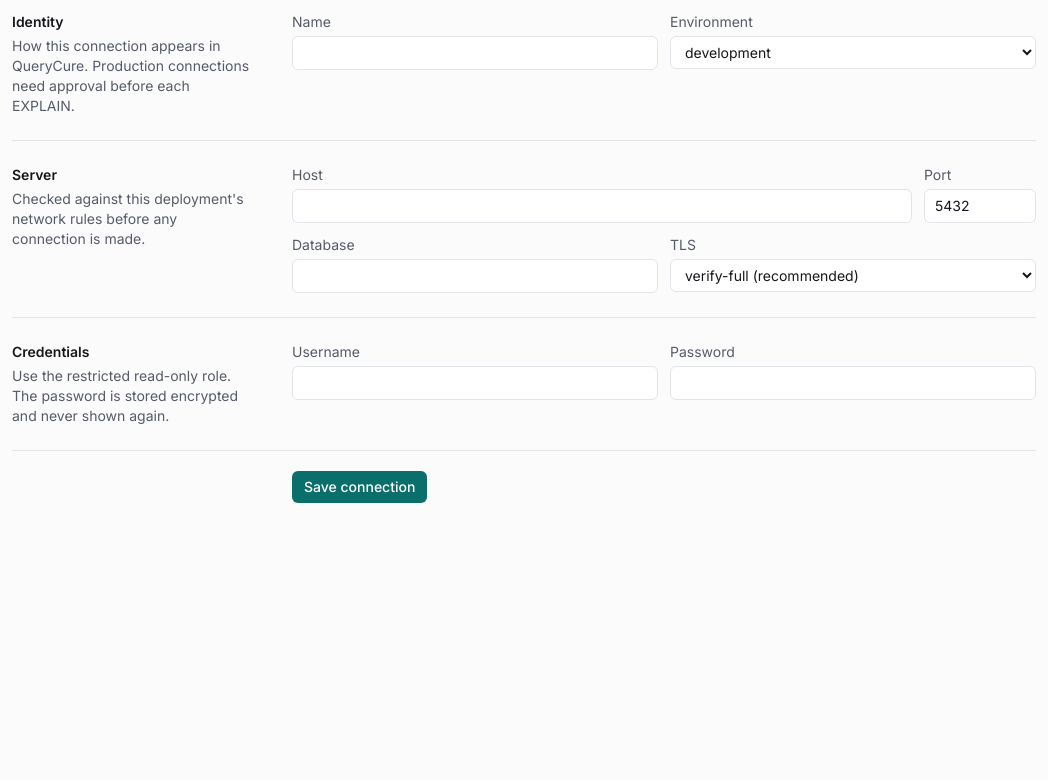
Test: ConnectionForm › shows the backend's message and detail, not a generic HTTP error
Type "local orders" into the field labelled "Name" at {"x": 475, "y": 53}, box [292,36,658,70]
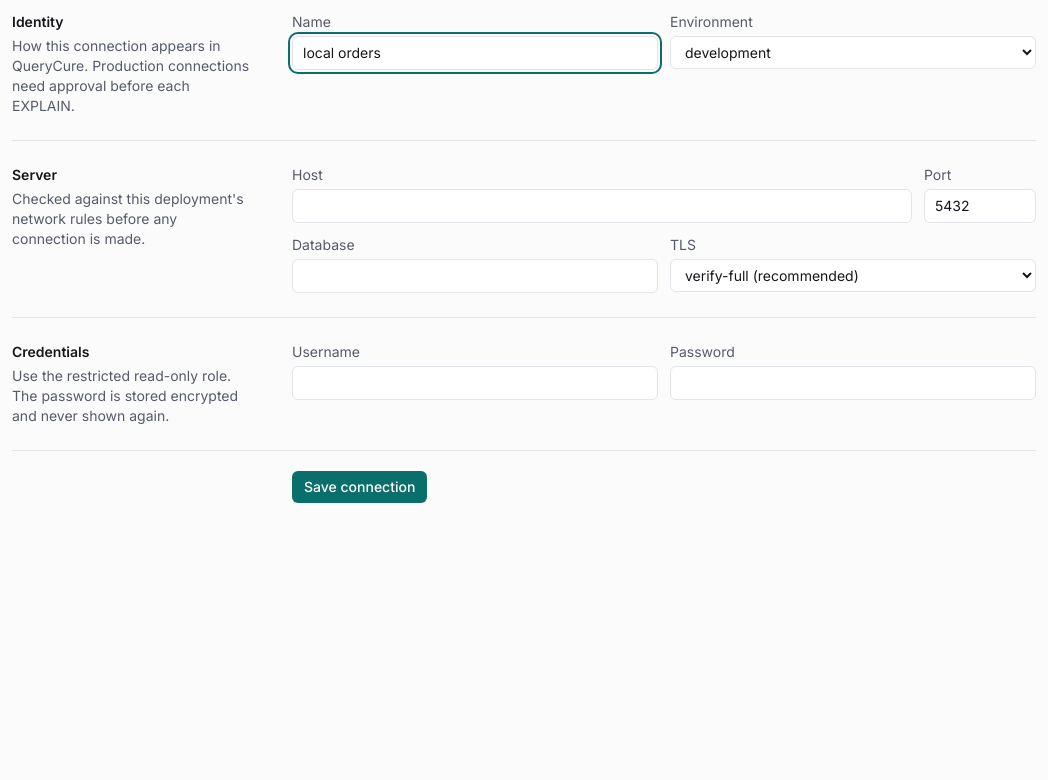
Type "127.0.0.1" into the field labelled "Host" at {"x": 602, "y": 206}, box [292,189,912,223]
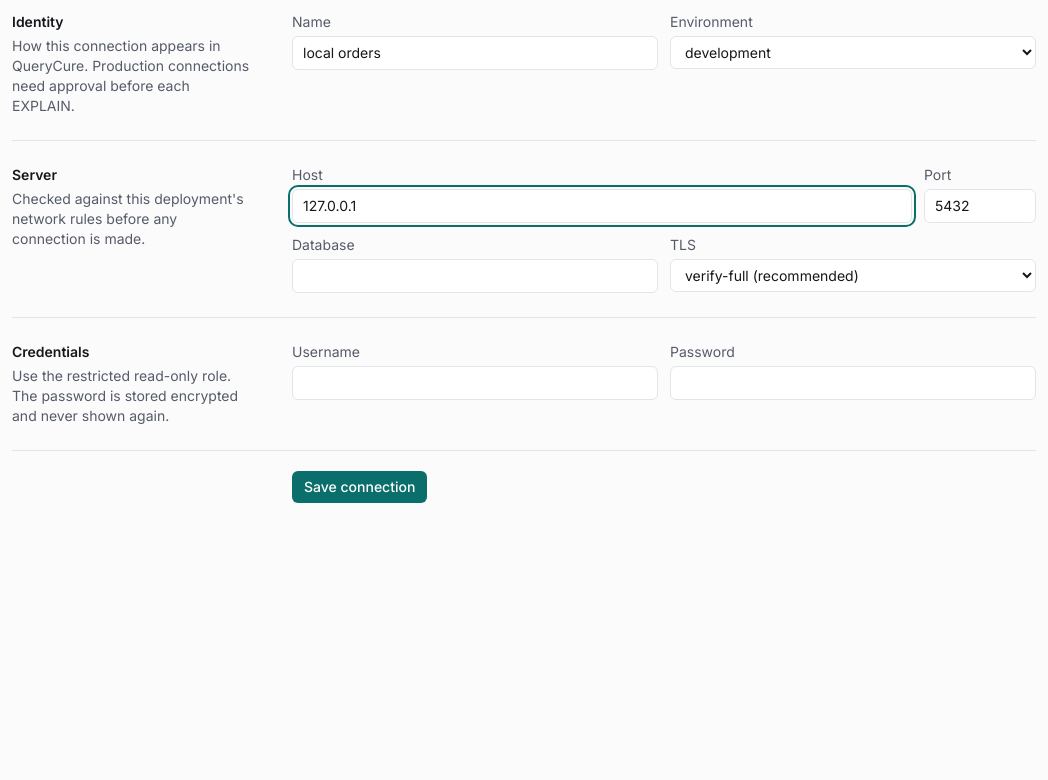
Type "app" into the field labelled "Database" at {"x": 475, "y": 276}, box [292,259,658,293]
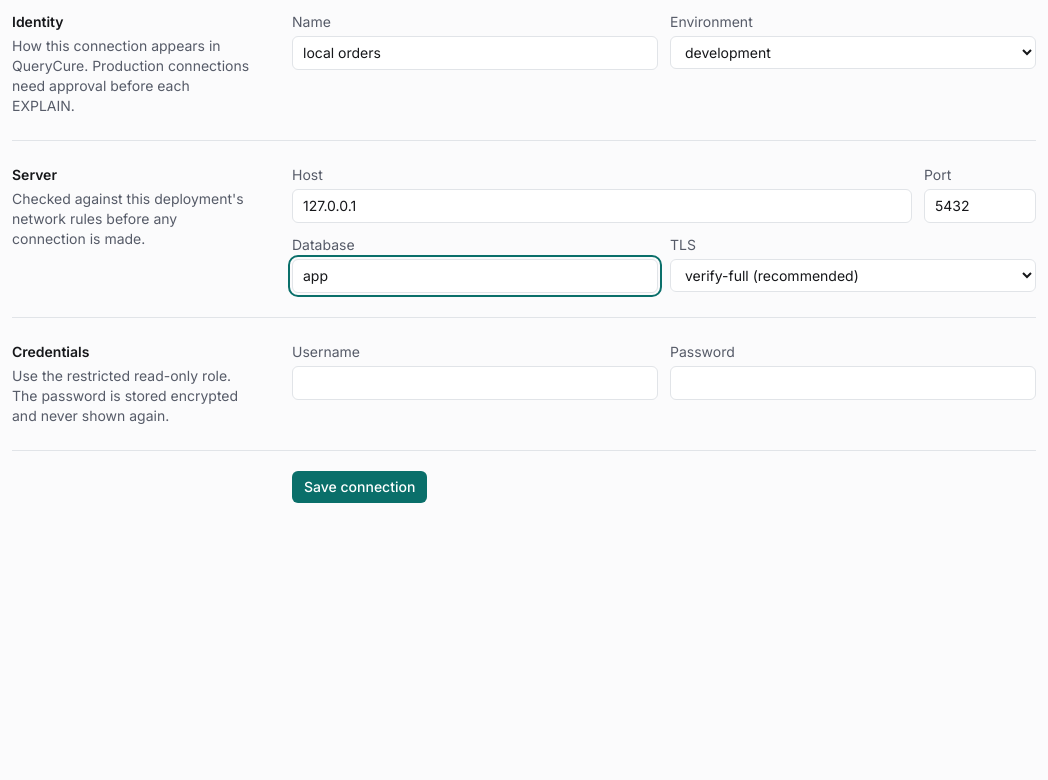
Type "inspector" into the field labelled "Username" at {"x": 475, "y": 383}, box [292,366,658,400]
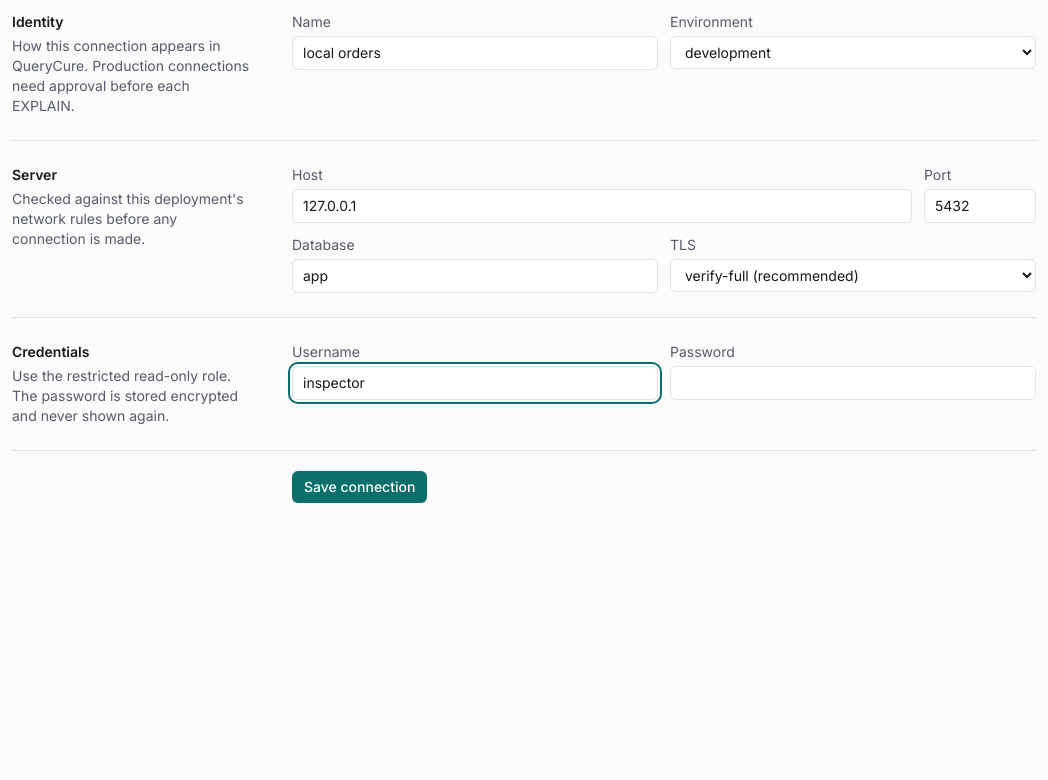
Type "s3cret" into the password field labelled "Password" at {"x": 853, "y": 383}, box [670,366,1036,400]
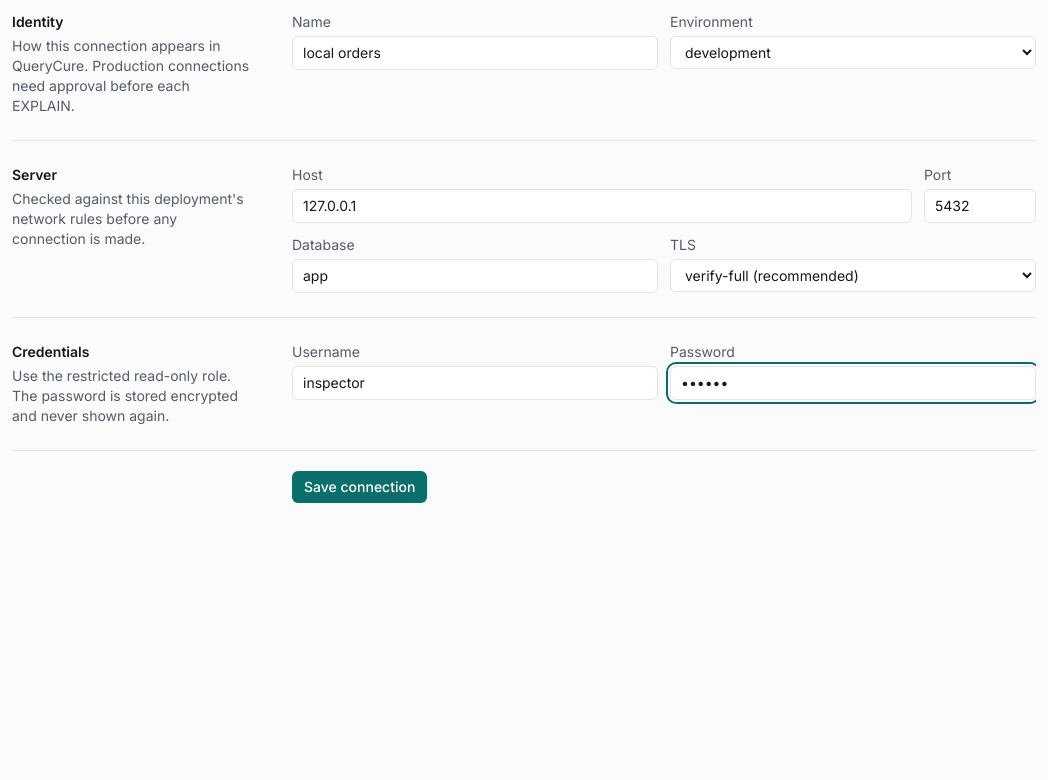
Click the button "Save connection" at {"x": 360, "y": 487}, box [292,471,427,503]
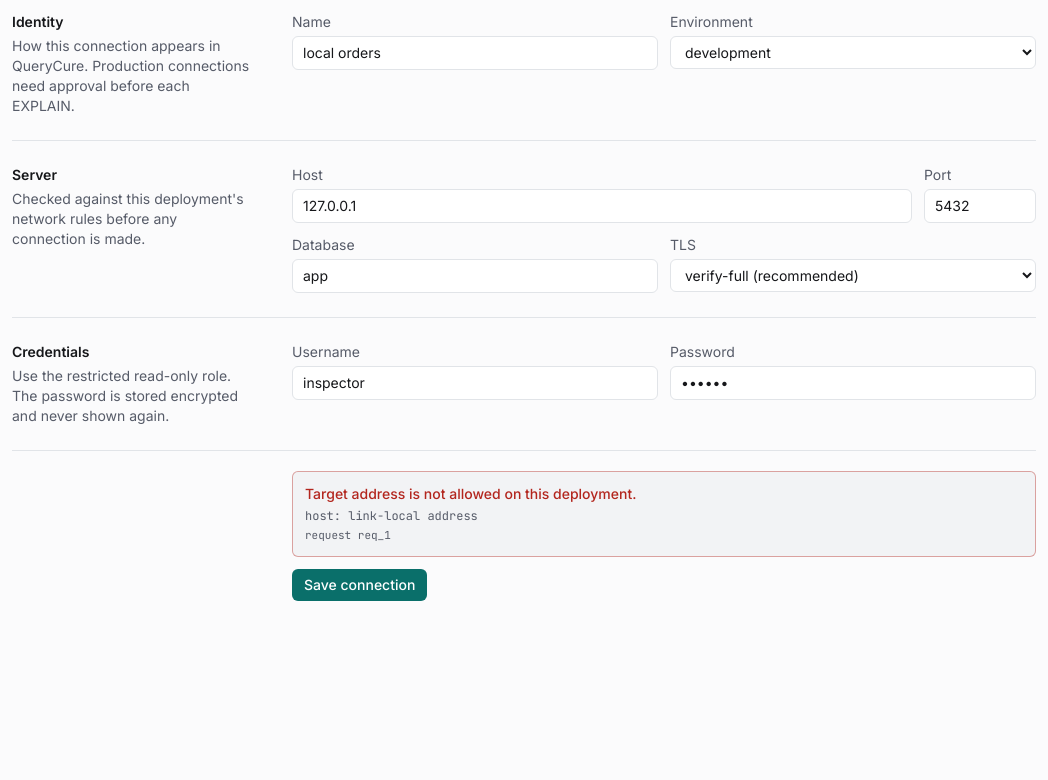
Expected: the text "Target address is not allowed on this deployment." is shown, [305,485,636,502]
Expected: the text "host: link-local address" is shown, [305,508,478,524]
